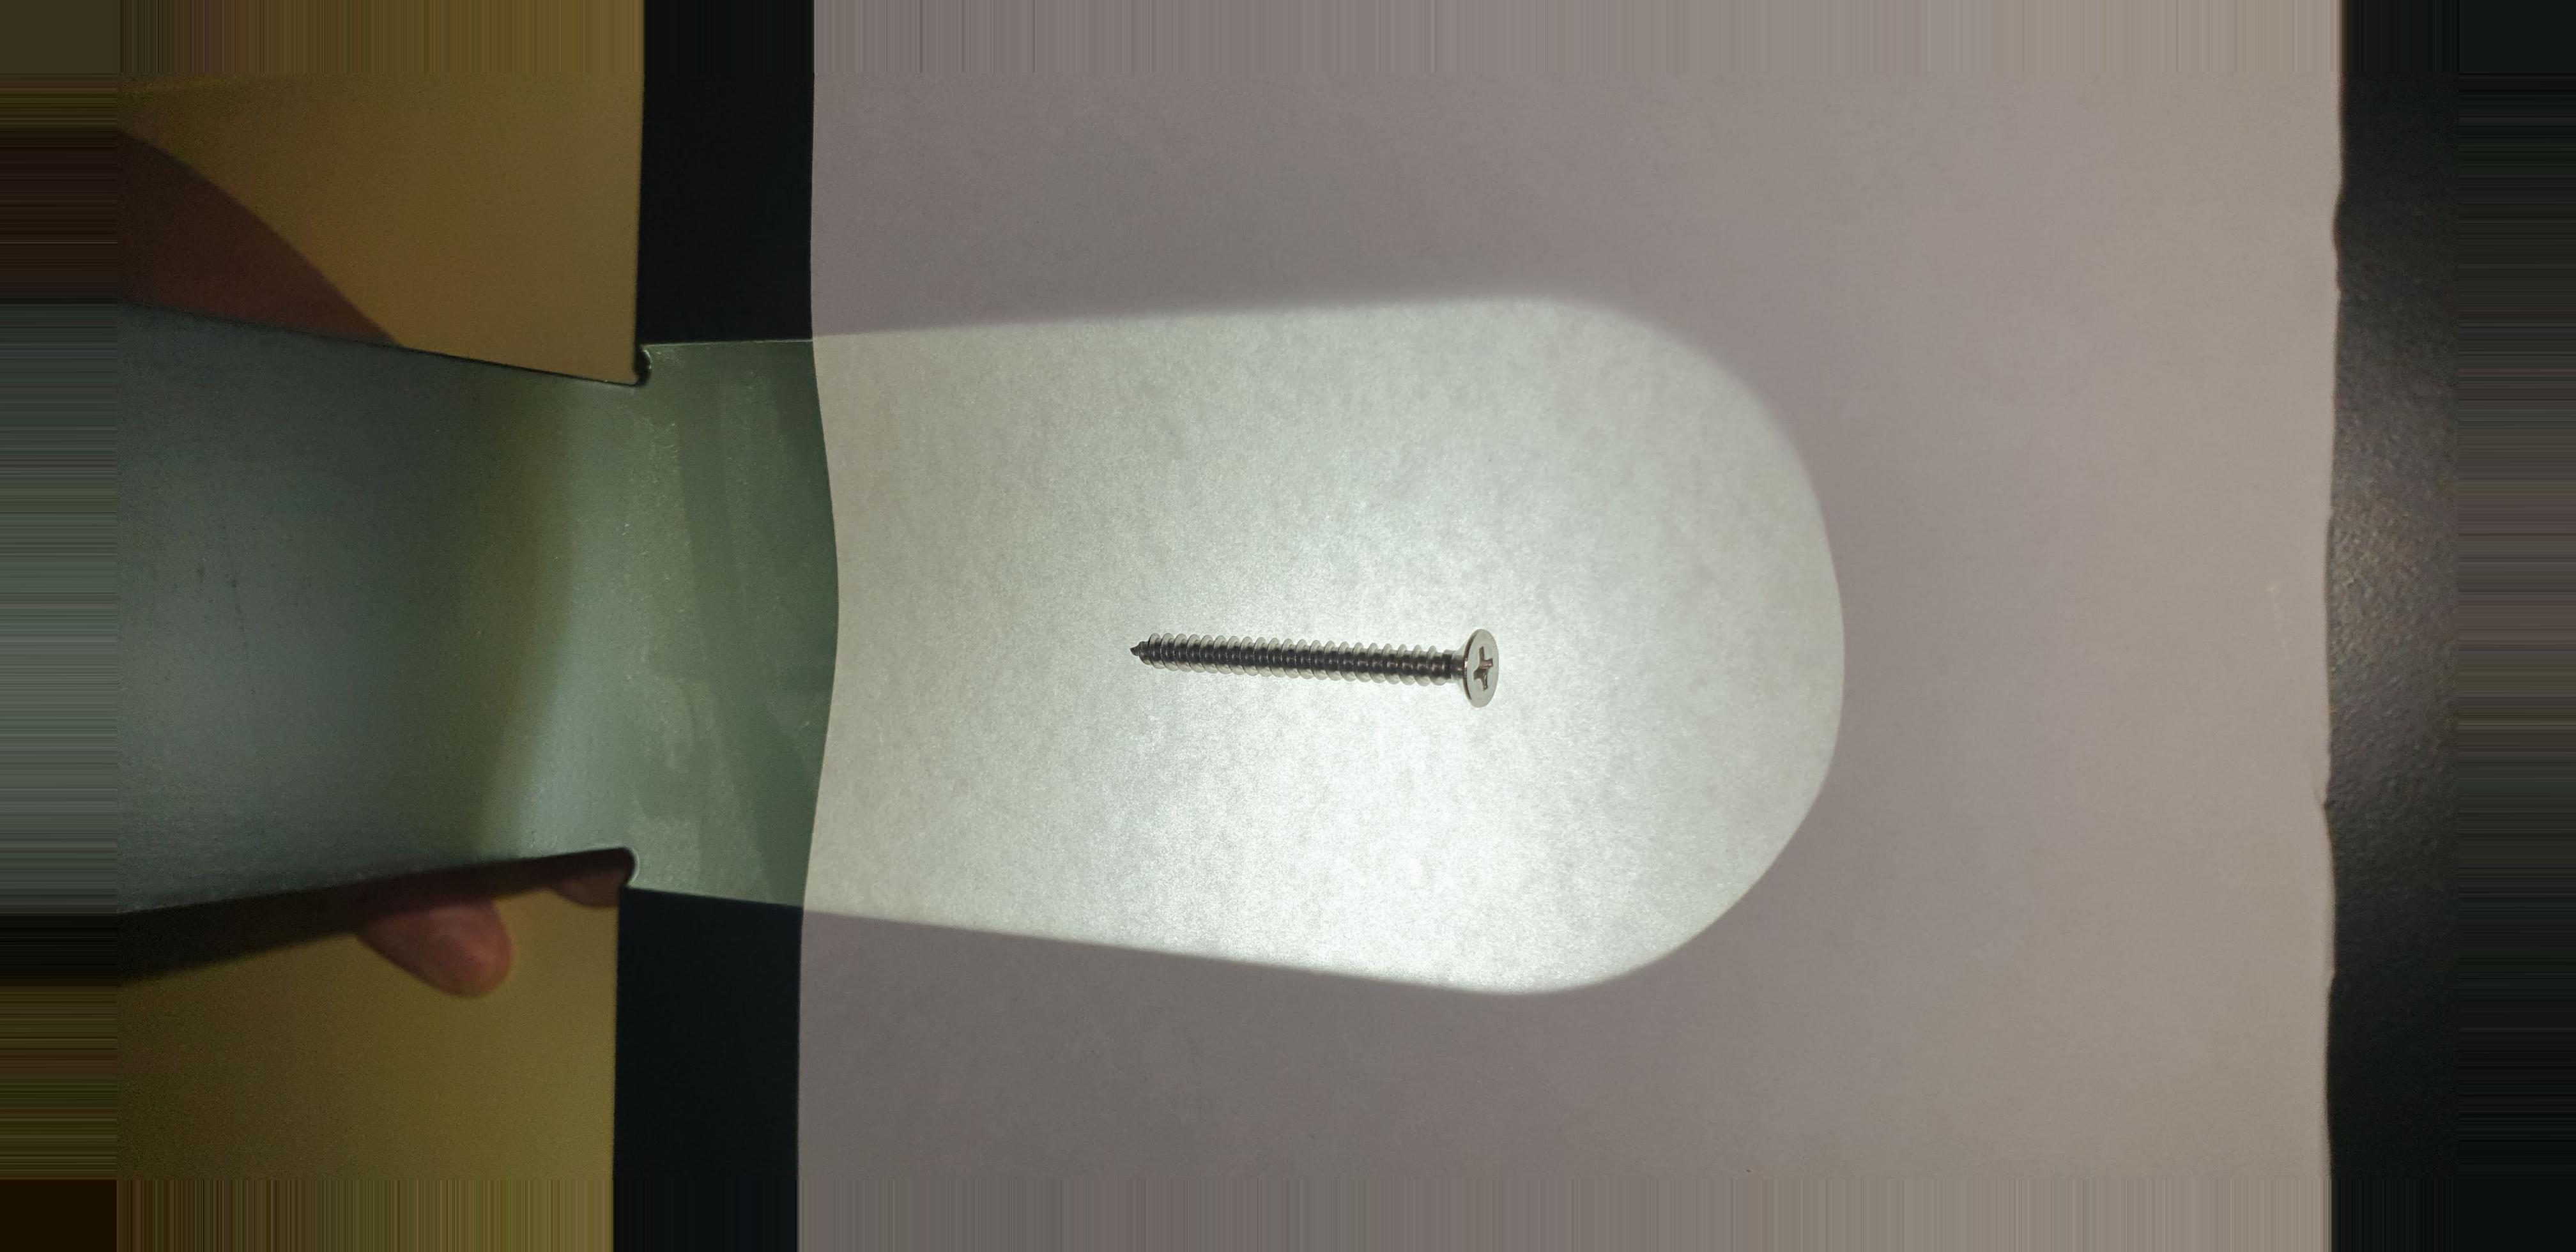fastener: (1107, 591, 1546, 725)
